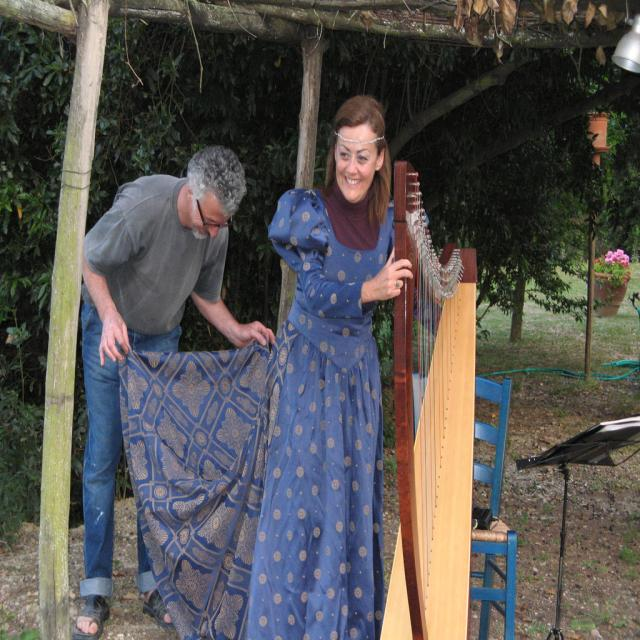harp: (379, 156, 481, 640)
